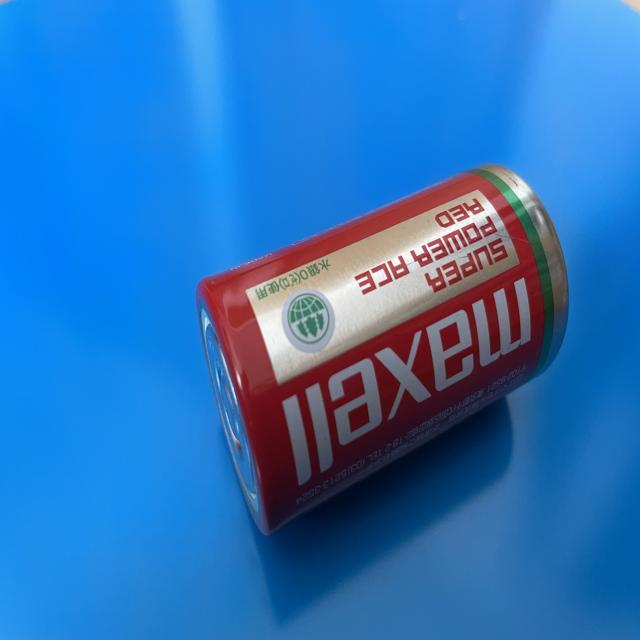hazardous waste: (195, 158, 572, 540)
